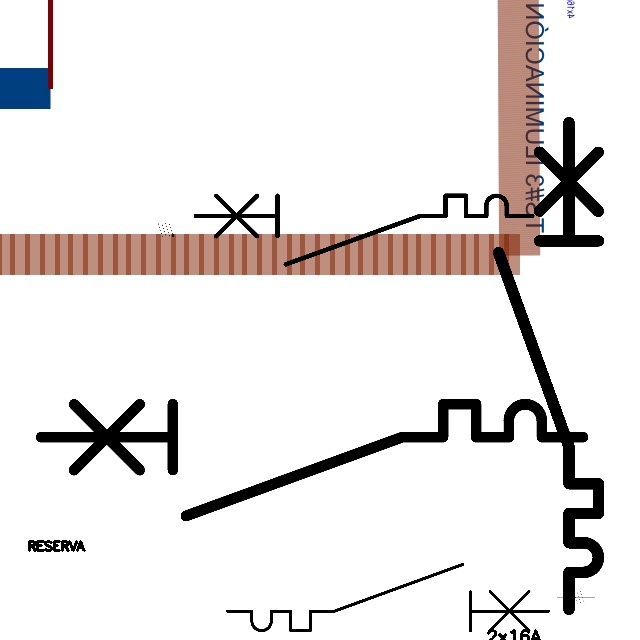interruptor_termomagnetico: (27, 390, 597, 529), (486, 110, 611, 622), (187, 187, 541, 273), (219, 556, 557, 639)
